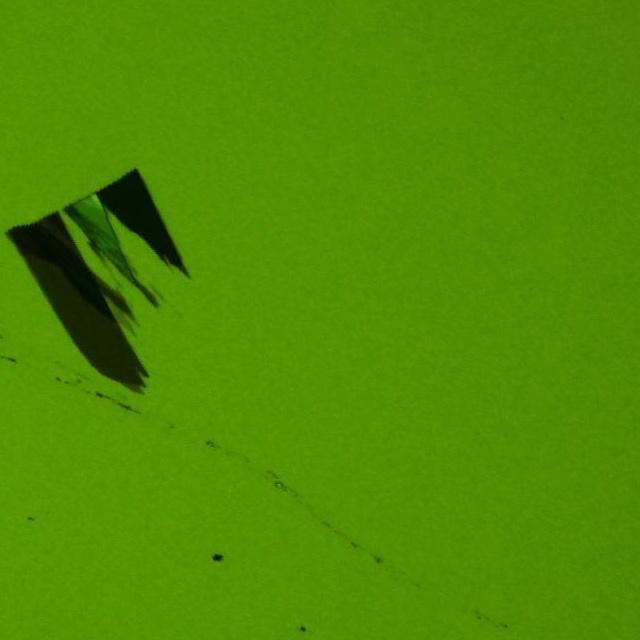monolayer-eWW4: (102, 295, 138, 335)
